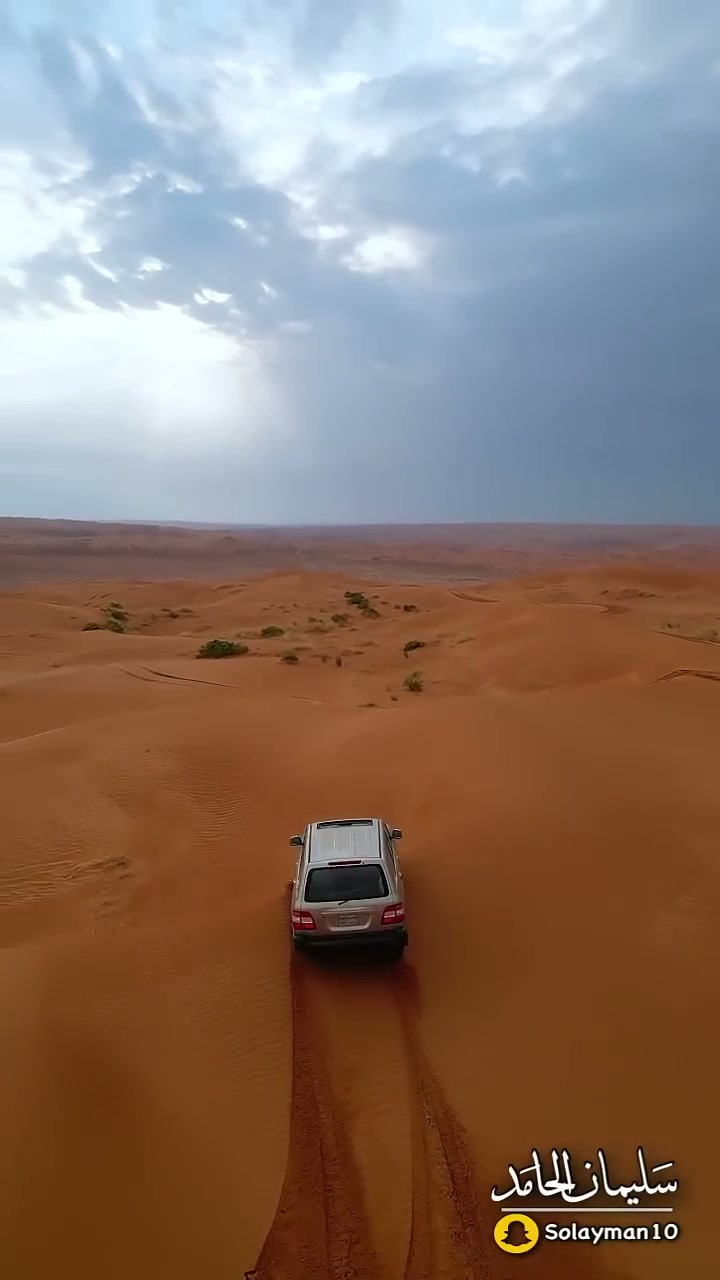vehicle_track: (249, 952, 381, 1279), (394, 965, 503, 1279)
